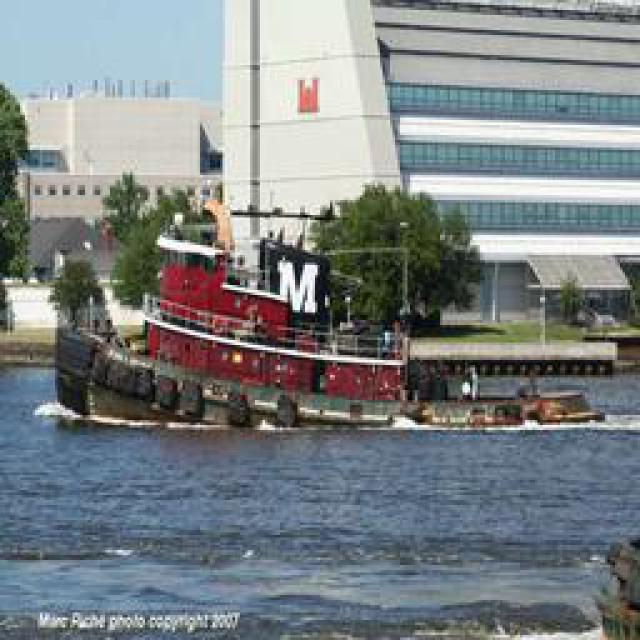Ship: (40, 210, 613, 450)
